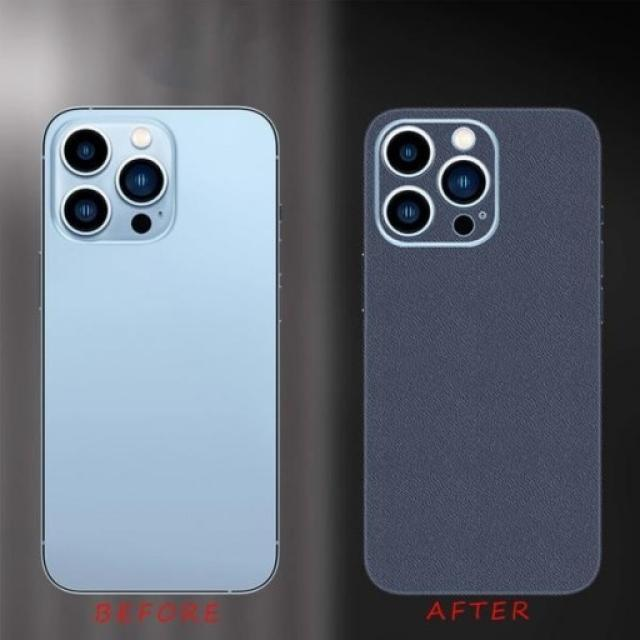phone: (362, 108, 604, 598), (39, 105, 280, 595)
